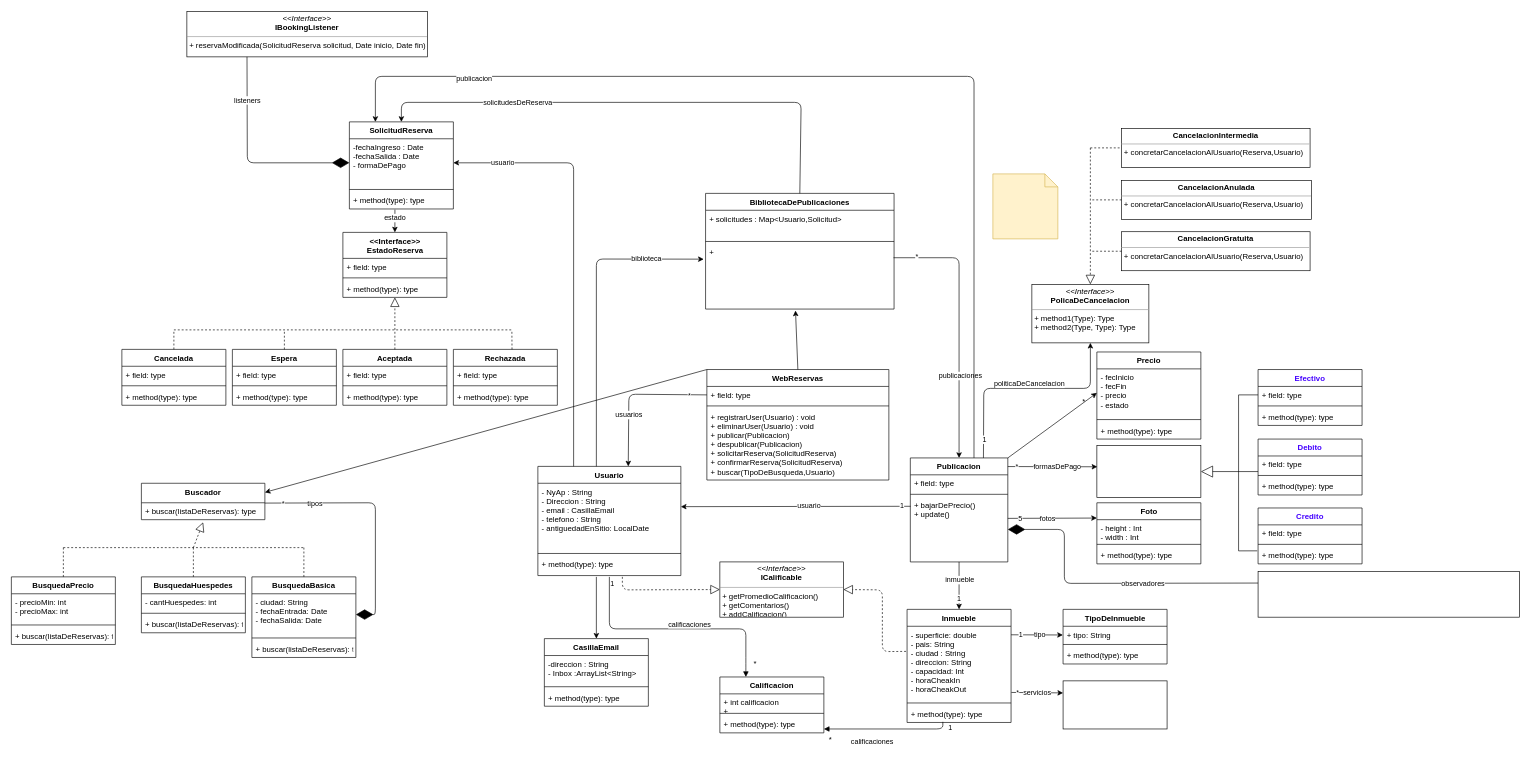
This 1531x757 diagram has some shape labels left out. Here are the shapes that lost their labels. From the top down, the centre of each, then its label:
(1025,206): OBJETO PARA EL PRECIO?
(1148,471): FormaDePago + field: Type + method(): Type
(1388,594): <<Interface>> IPriceObserver + update()
(1114,704): Servicio + nombre : String + method(): Type
